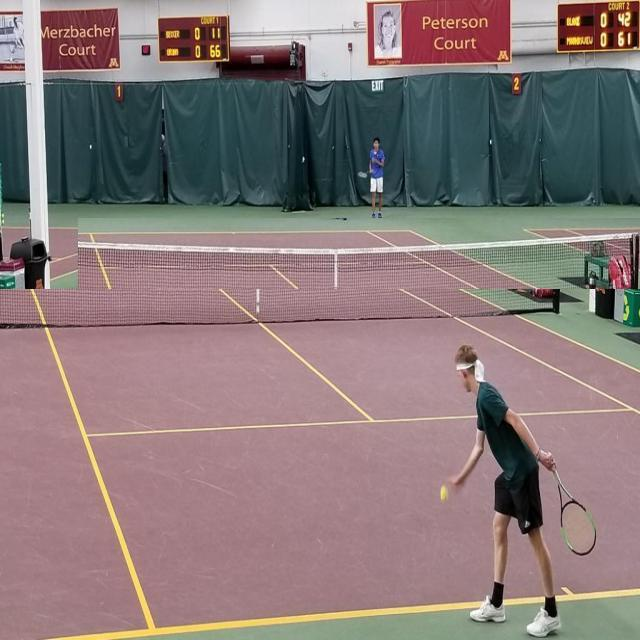court: (0, 289, 640, 640)
net: (78, 218, 640, 350)
player: (38, 338, 204, 636)
